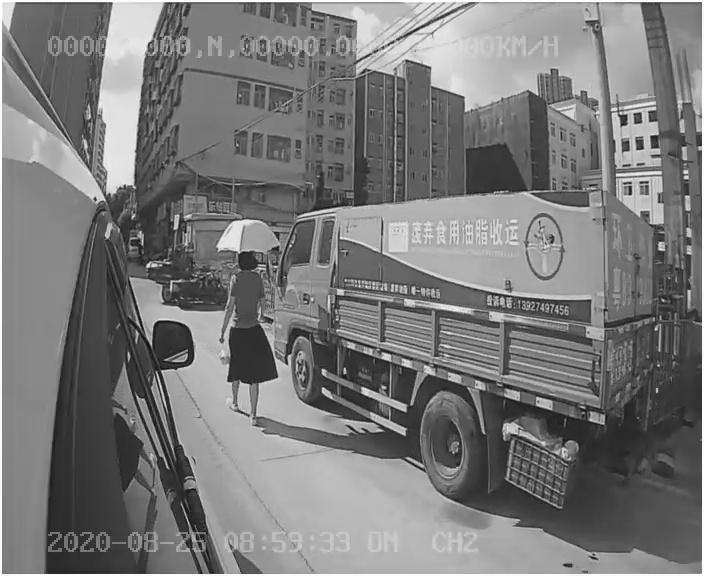person: (217, 252, 286, 434)
